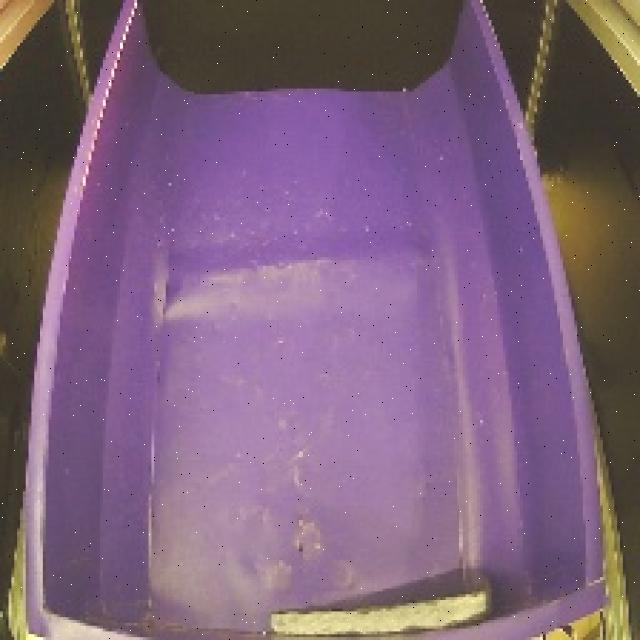china: (258, 540, 512, 640)
